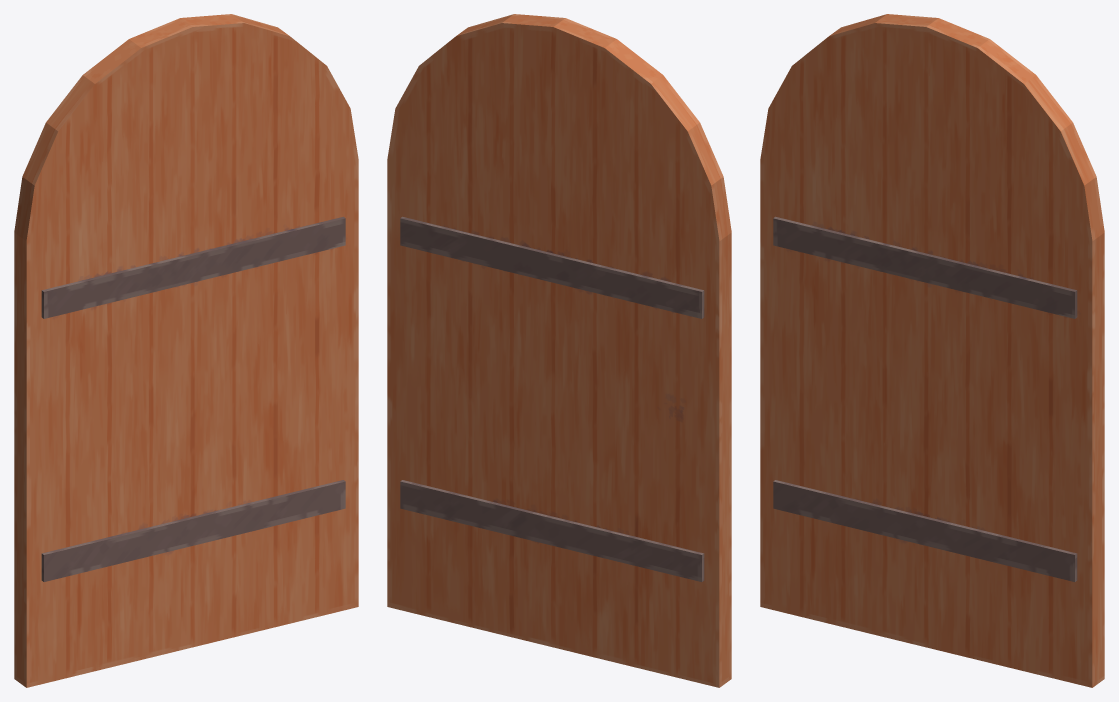
Rendered from door2_wood_low.fbx.
3 views of the same model, side by side, from view 1: azimuth 30°, elevation 25°; view 2: azimuth 150°, elevation 25°; view 3: azimuth 330°, elevation 25° (orthographic).
Parts seen in each view (by area): view 1: door2_wood; view 2: door2_wood; view 3: door2_wood.
Boxes of the visible parts, bbox=[...] form: door2_wood: bbox=[14, 14, 358, 687]; door2_wood: bbox=[387, 14, 731, 687]; door2_wood: bbox=[760, 14, 1104, 687].
Size of the model in its own units: 4.36 by 7.78 by 0.38.
1 material, 1 textured.
